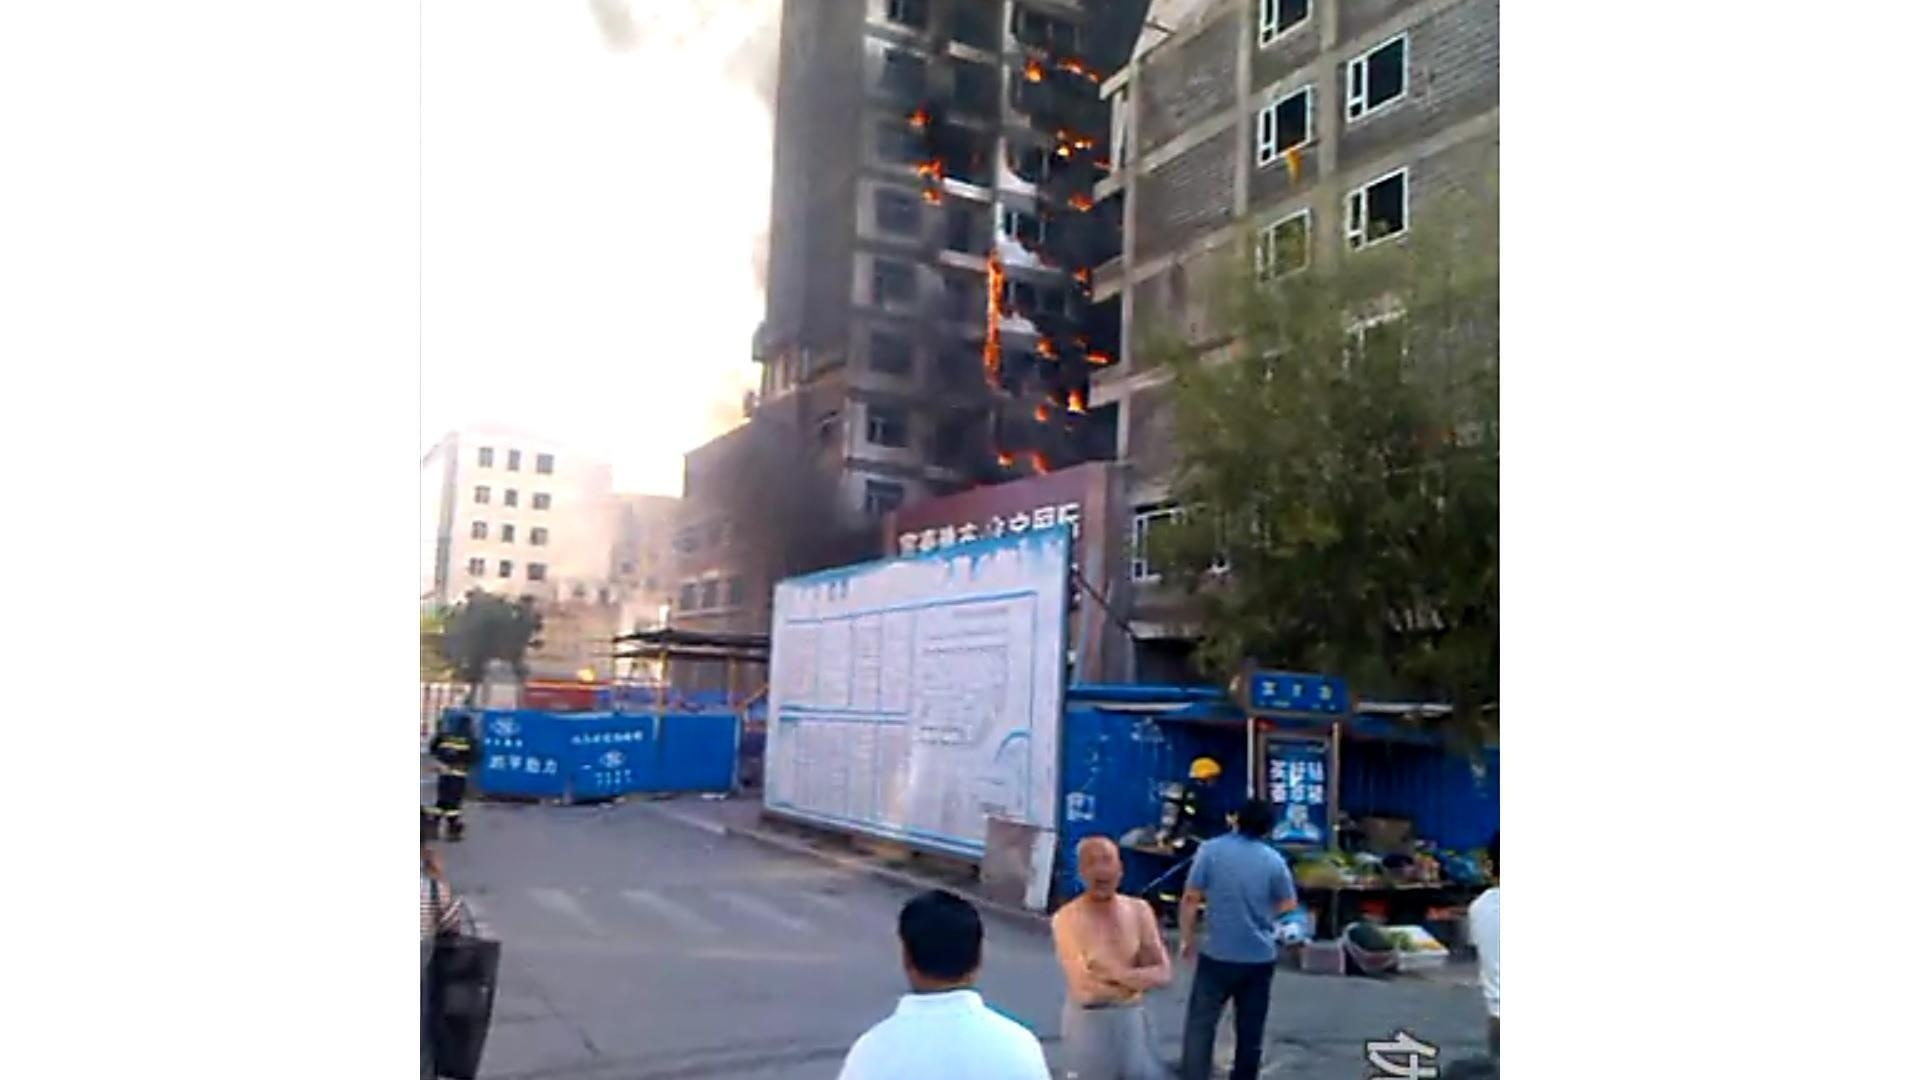fire: (976, 116, 1112, 440), (897, 98, 951, 207)
